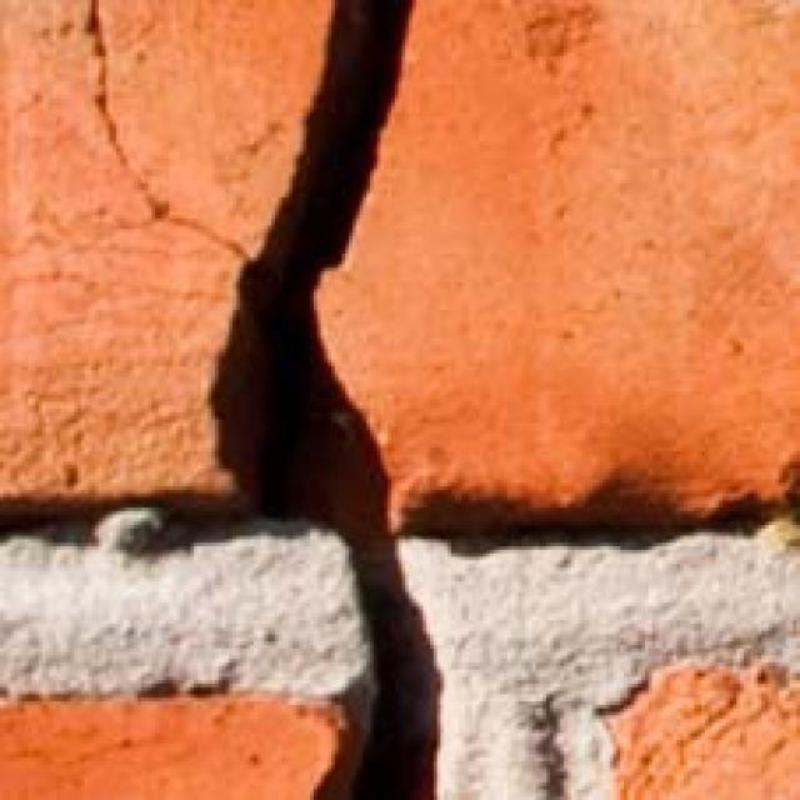pothole: (211, 0, 439, 799), (88, 0, 247, 259)
